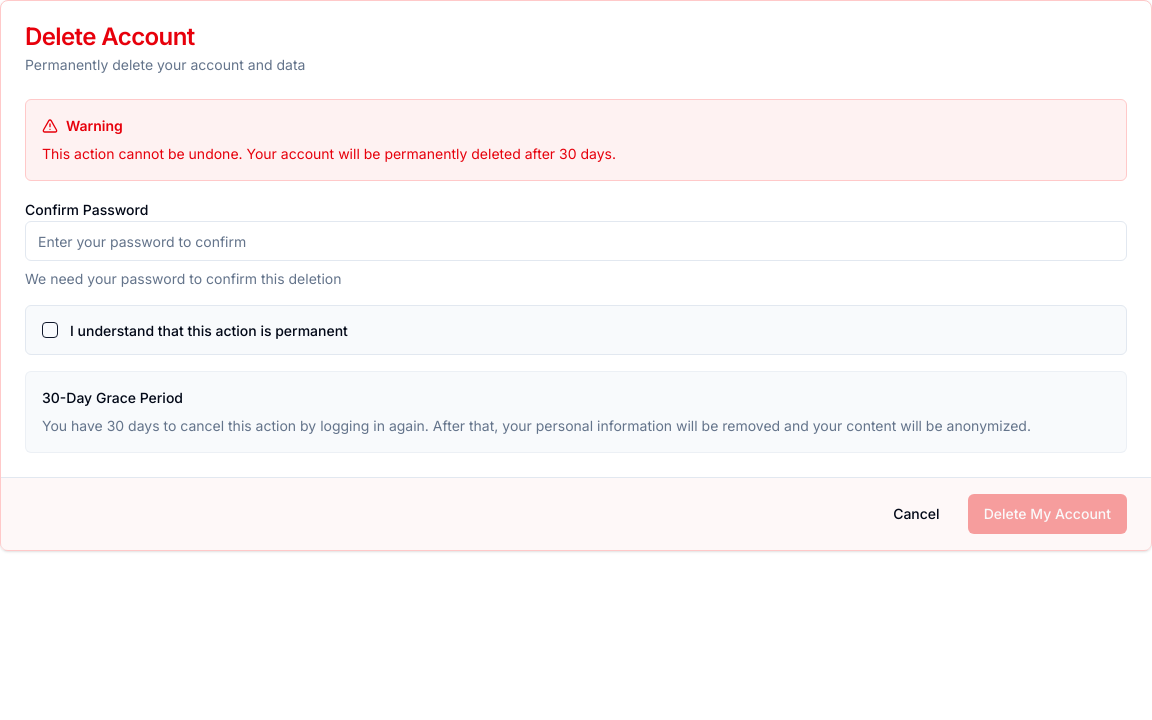
🔴 RED: DeleteAccountForm Component › Form Submission › should show loading state during submission
Type "Password123" into the password field labelled "Confirm Password" at (576, 241), box x1=25 y1=221 x2=1127 y2=261
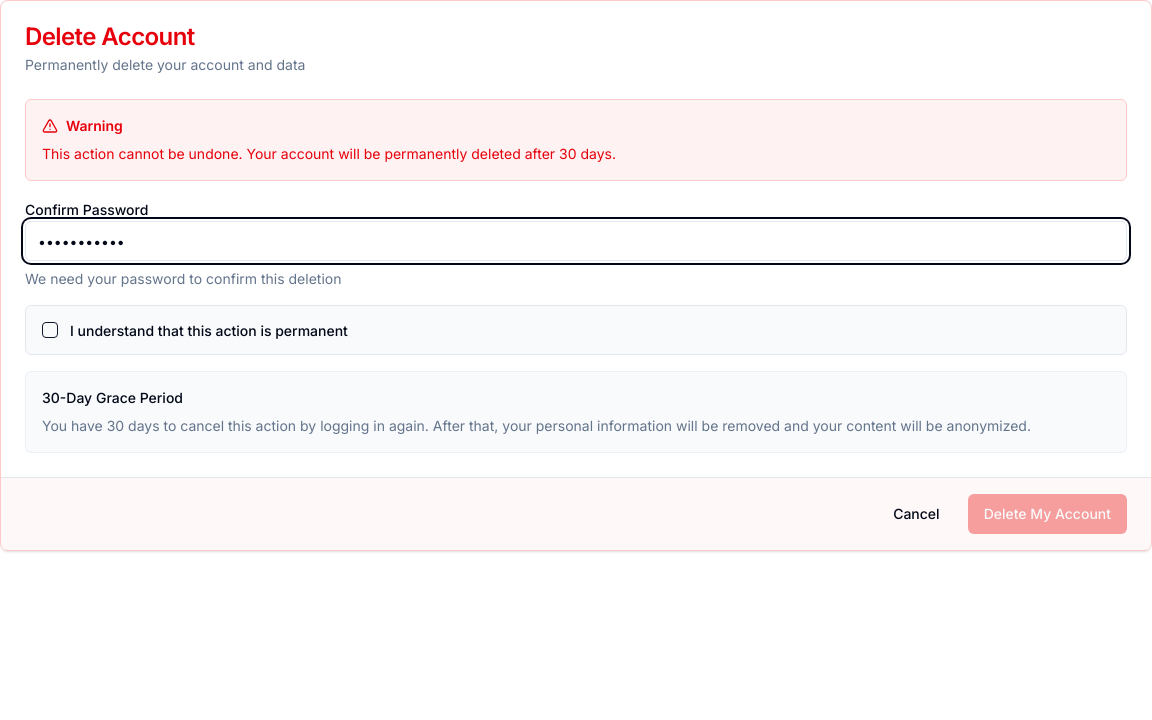
Click the checkbox named "i understand that this action is permanent" at (50, 330), box x1=42 y1=322 x2=58 y2=338
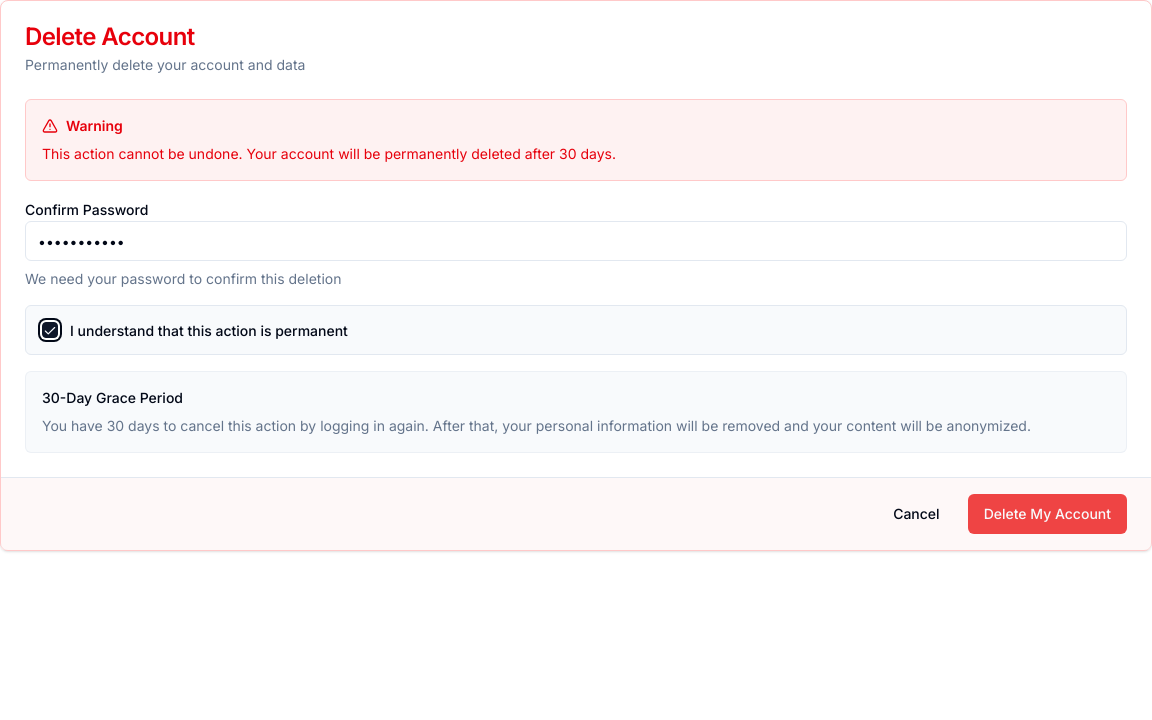
Click the button "Delete My Account" at (1047, 514), box x1=968 y1=494 x2=1127 y2=534
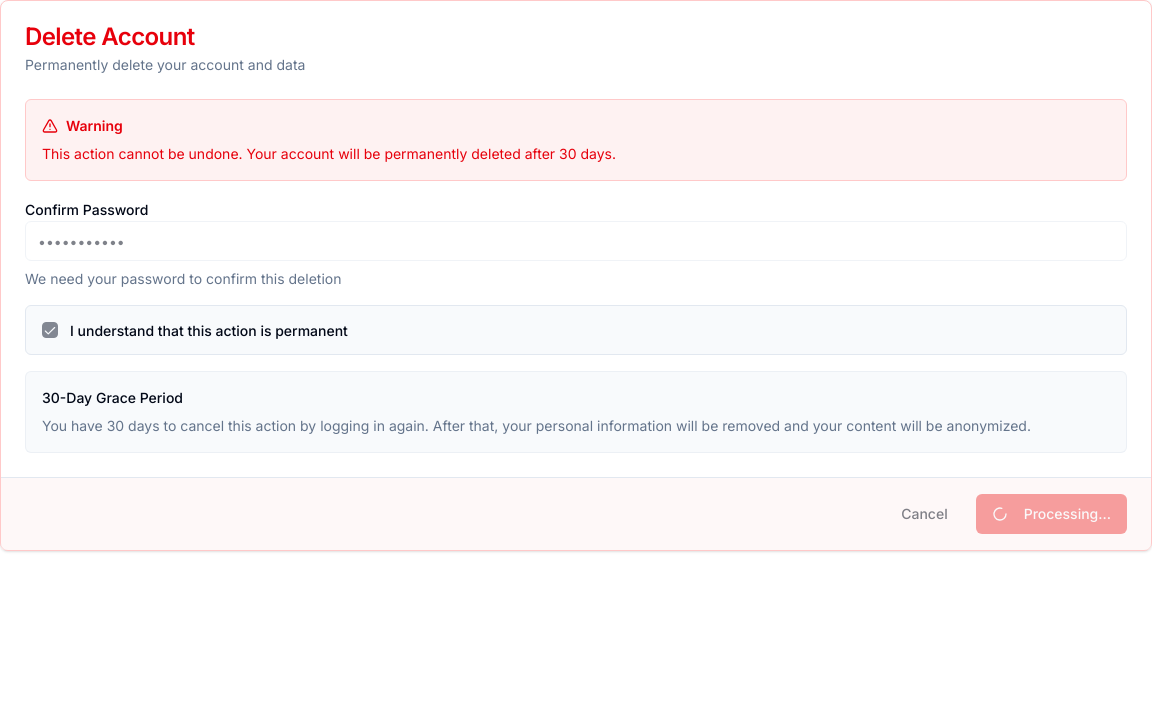
Now the button named "delete my account" shows "Processing", box x1=976 y1=494 x2=1127 y2=534
Now the button named "delete my account" is disabled, box x1=976 y1=494 x2=1127 y2=534
